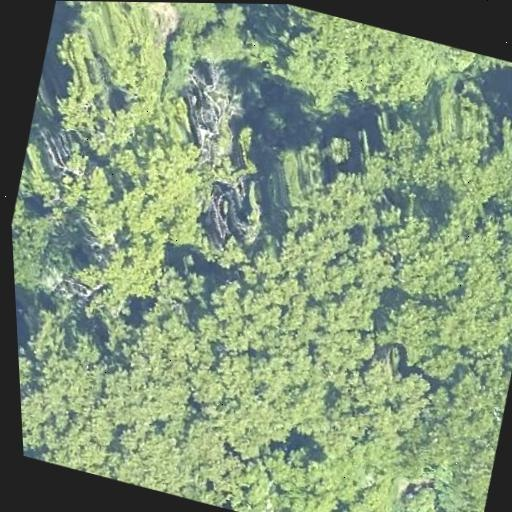tree-top: (33, 0, 198, 171), (265, 7, 462, 137), (365, 201, 512, 372), (360, 72, 512, 221), (276, 319, 438, 457), (274, 194, 412, 341), (395, 326, 512, 477), (90, 306, 212, 447), (17, 326, 130, 475), (188, 347, 319, 467), (268, 128, 395, 250), (102, 138, 219, 258), (185, 267, 300, 369), (65, 216, 167, 327), (20, 130, 124, 229), (278, 436, 405, 512), (105, 413, 205, 499), (10, 202, 83, 303), (188, 3, 272, 81), (137, 2, 236, 31)
